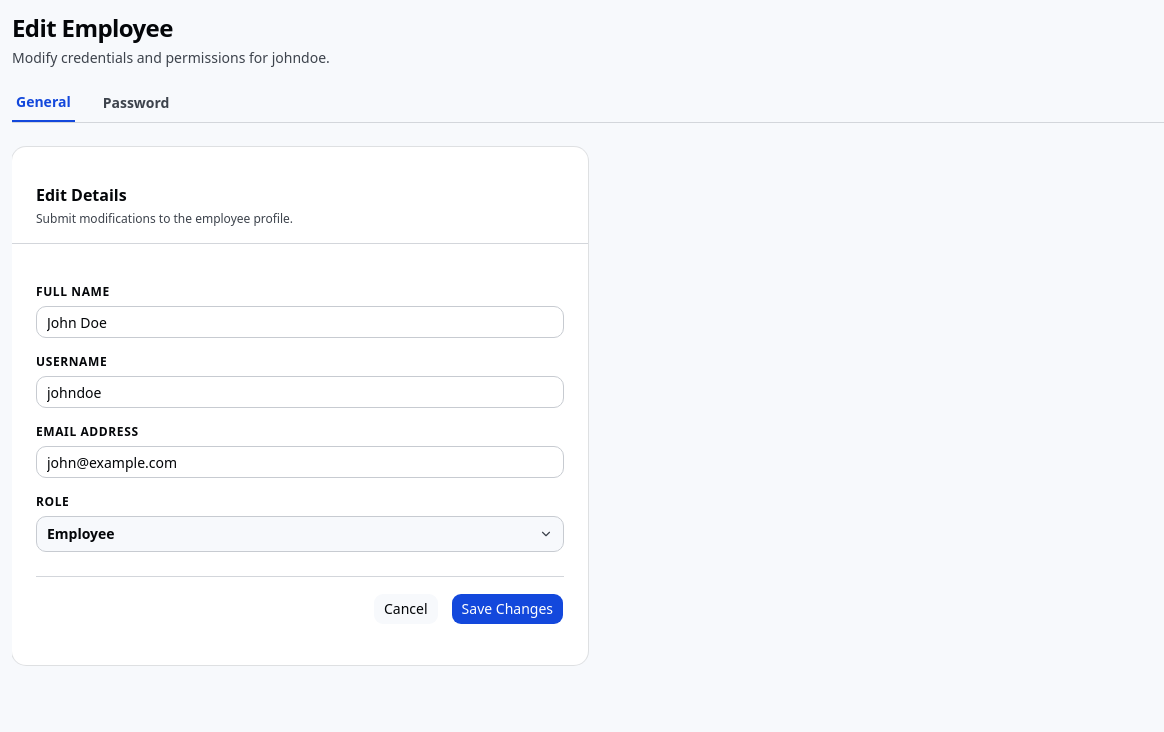
Scenario: EditEmployeeForm Component › should switch to Password tab when clicked
The width and height of the screenshot is (1164, 732).
Click the button "Password".
click(136, 107)  # box [99, 92, 174, 122]
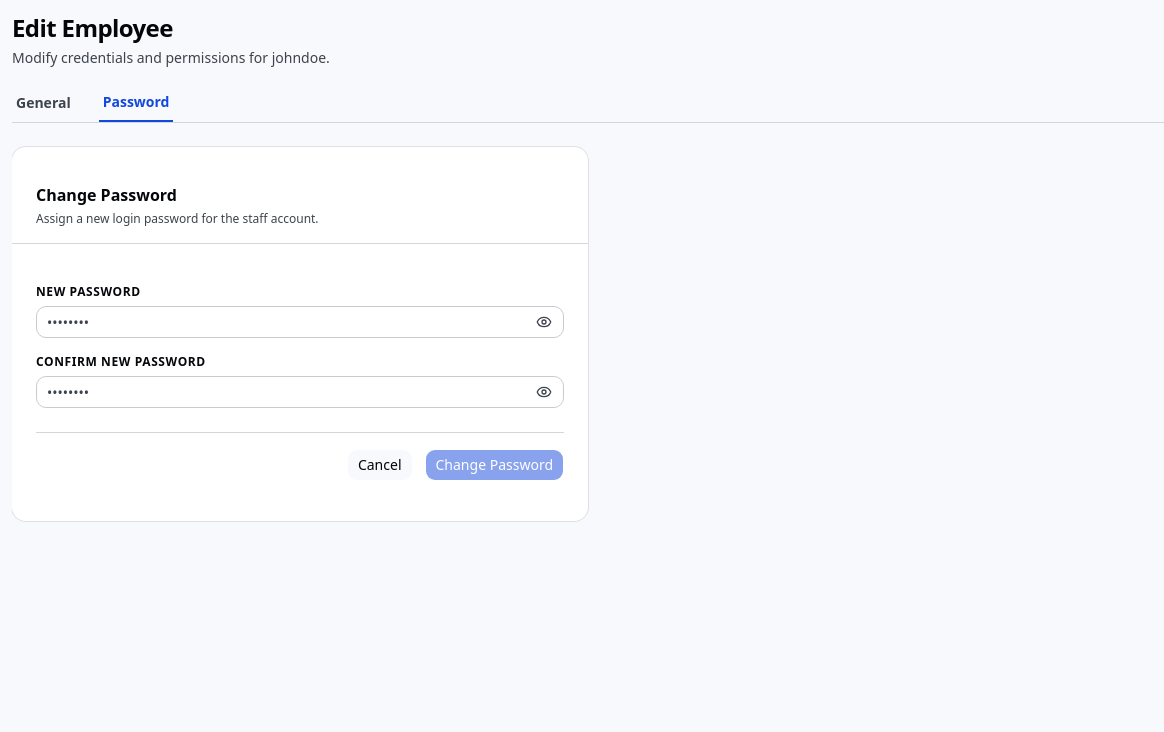
Expected: the password field labelled "New Password" is shown, [36, 306, 564, 338]
Expected: the password field labelled "Confirm New Password" is shown, [36, 376, 564, 408]
Expected: the button "Change Password" is shown, [424, 449, 564, 481]
